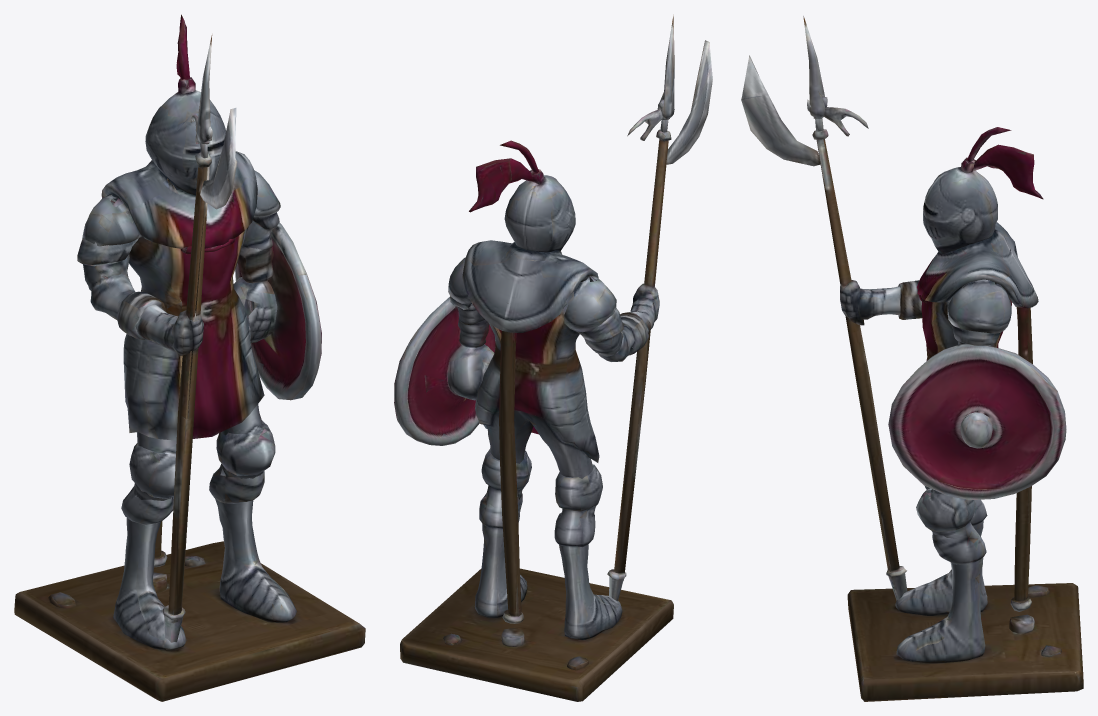
The model's file is sd_armadura.glb.
The picture shows the model from 3 angles, left to right: view 1: azimuth 30°, elevation 25°; view 2: azimuth 150°, elevation 25°; view 3: azimuth 270°, elevation 25°; orthographic projection. The views are drawn at different scales.
Visible parts, largest first — view 1: Mesh_0; view 2: Mesh_0; view 3: Mesh_0.
Part boxes in pixels (box(x1,y1,x2,y2)): Mesh_0: box(14, 14, 365, 701); Mesh_0: box(394, 14, 712, 701); Mesh_0: box(741, 15, 1083, 701).
Size of the model in its own units: 0.1993 by 0.5541 by 0.2828.
1 material, 1 textured.
